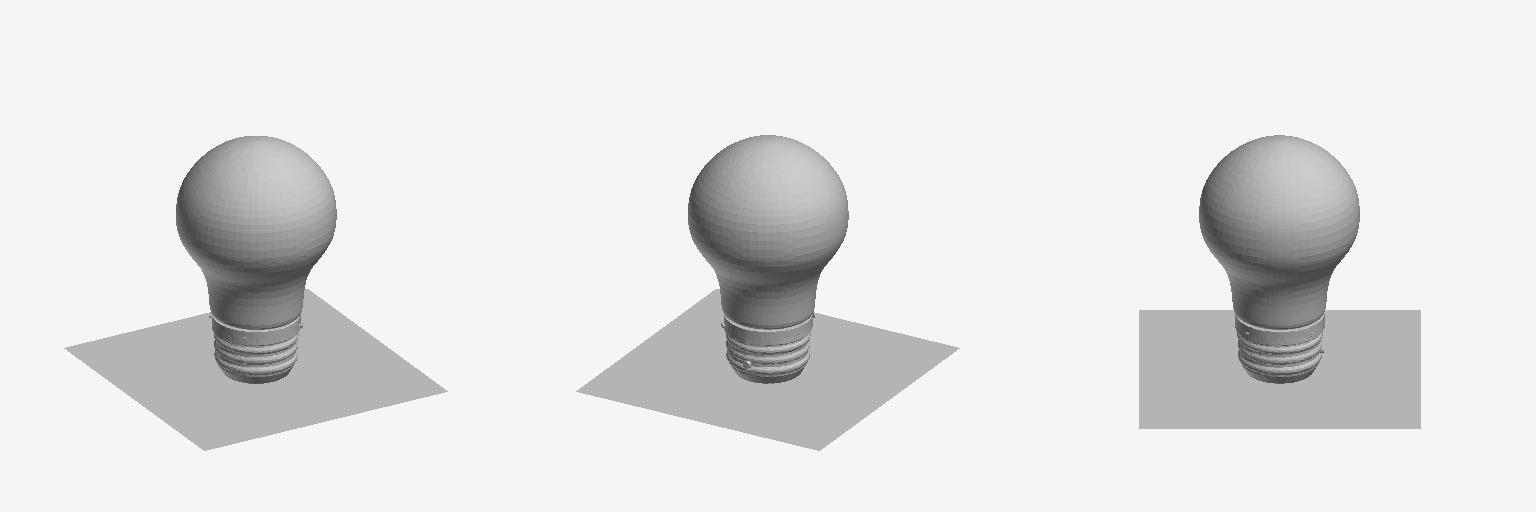
Rendered from BLK1709.obj.
3 views of the same model, side by side, from view 1: azimuth 30°, elevation 25°; view 2: azimuth 150°, elevation 25°; view 3: azimuth 270°, elevation 25° (orthographic).
Visible parts, largest first — view 1: shadow_plane_v6, clear_obj_0_100_0_v6, not_clear_obj_0_v6; view 2: shadow_plane_v6, clear_obj_0_100_0_v6, not_clear_obj_0_v6; view 3: shadow_plane_v6, clear_obj_0_100_0_v6, not_clear_obj_0_v6.
Part boxes in pixels (x1,y1,x2,y2): shadow_plane_v6: (64,289,447,450); clear_obj_0_100_0_v6: (176,136,336,329); not_clear_obj_0_v6: (209,312,302,383); shadow_plane_v6: (576,289,959,450); clear_obj_0_100_0_v6: (688,135,848,329); not_clear_obj_0_v6: (721,312,814,383); shadow_plane_v6: (1139,310,1420,428); clear_obj_0_100_0_v6: (1199,135,1359,329); not_clear_obj_0_v6: (1235,313,1324,383).
Bounding box in the file's own units: 51.26 × 45.72 × 51.26.